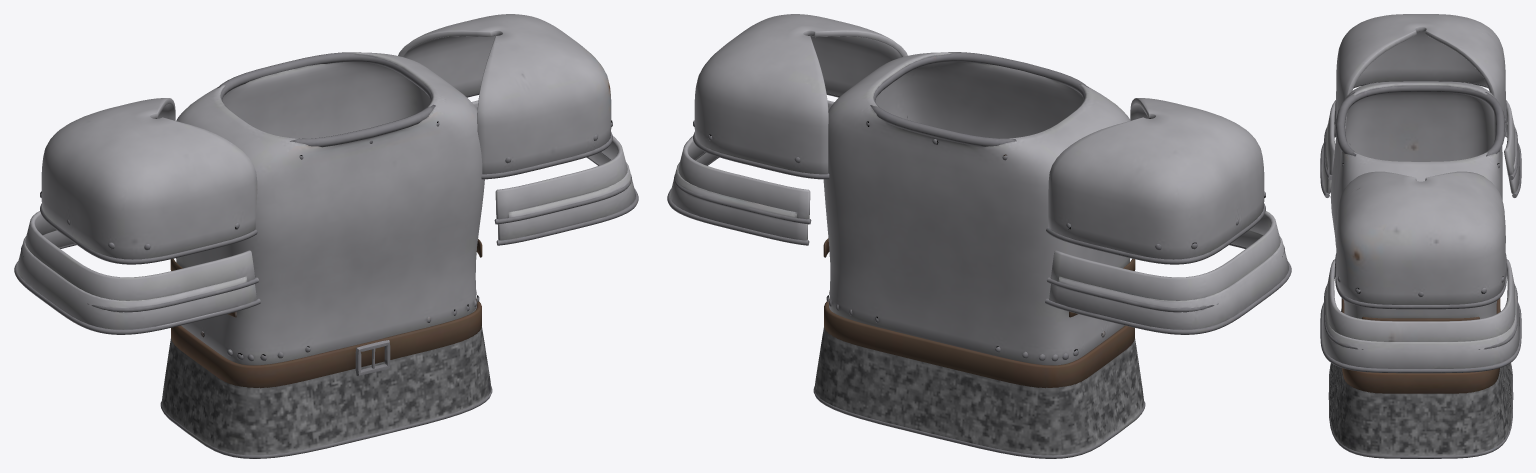
Rendered from iron_chest.fbx.
3 renders of one model, left to right at view 1: azimuth 30°, elevation 25°; view 2: azimuth 150°, elevation 25°; view 3: azimuth 270°, elevation 25°, orthographic. The views are drawn at different scales.
Parts seen in each view (by area): view 1: UpperTorso, RightUpperArm, LowerTorso, LeftUpperArm; view 2: UpperTorso, RightUpperArm, LowerTorso, LeftUpperArm; view 3: LeftUpperArm, UpperTorso, LowerTorso, RightUpperArm.
Part boxes in pixels (x1=…): UpperTorso: x1=170, y1=52, x2=484, y2=365; RightUpperArm: x1=14, y1=98, x2=260, y2=334; LowerTorso: x1=160, y1=298, x2=492, y2=458; LeftUpperArm: x1=398, y1=14, x2=638, y2=245; UpperTorso: x1=823, y1=52, x2=1135, y2=365; RightUpperArm: x1=1045, y1=98, x2=1291, y2=334; LowerTorso: x1=813, y1=298, x2=1145, y2=458; LeftUpperArm: x1=667, y1=14, x2=907, y2=245; LeftUpperArm: x1=1320, y1=171, x2=1521, y2=373; UpperTorso: x1=1330, y1=81, x2=1504, y2=321; LowerTorso: x1=1328, y1=298, x2=1513, y2=458; RightUpperArm: x1=1320, y1=14, x2=1521, y2=197.
Bounding box in the file's own units: 5 × 2.78 × 1.72.
Materials: 1 (1 with a texture image).
